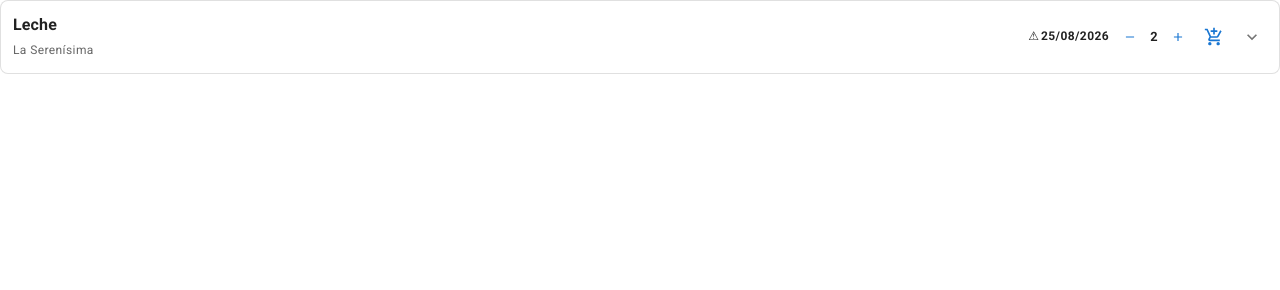
Scenario: ProductCard › shows the preferred store in the details when set
Click the text "Leche". click: (35,24)
box: [13,15,57,34]
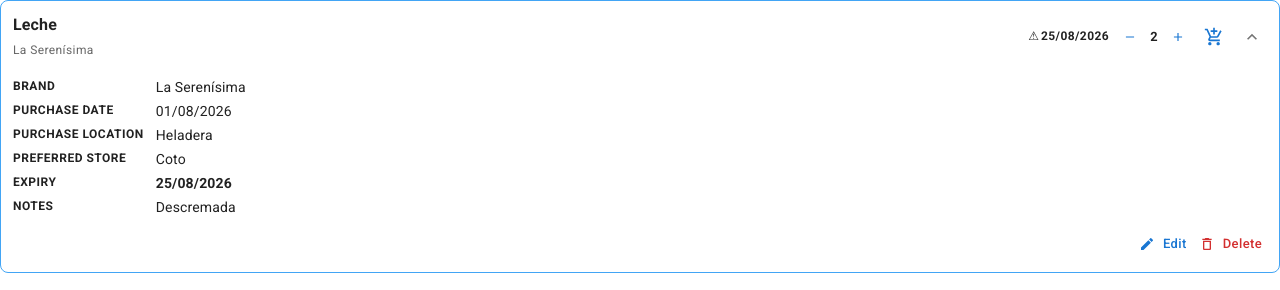
Expected: the text "Preferred store" is shown, [13,149,144,169]
Expected: the text "Coto" is shown, [156,151,186,167]
